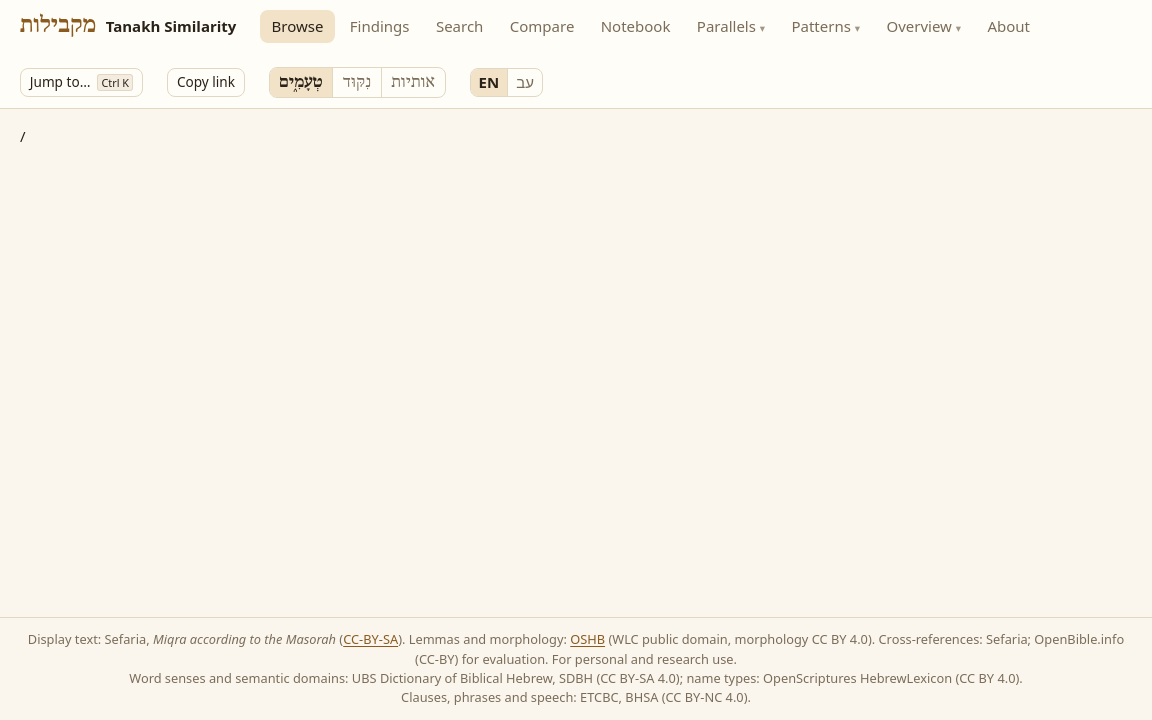
Test: JumpBox › puts a commoner word before a place of the same name
The width and height of the screenshot is (1152, 720).
Press k
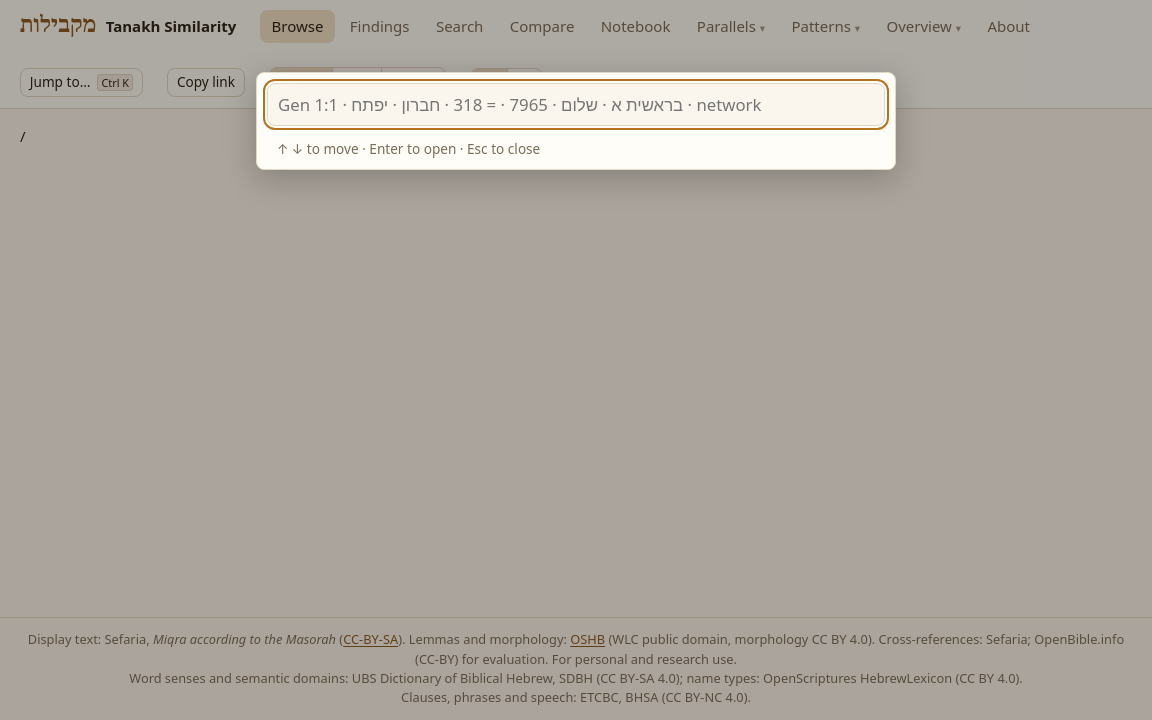
Replace the text in the dropdown named "Jump to a passage, a word, a place, a person or a page" with "עין" at (576, 104), box top-left (267, 83), bottom-right (885, 126)
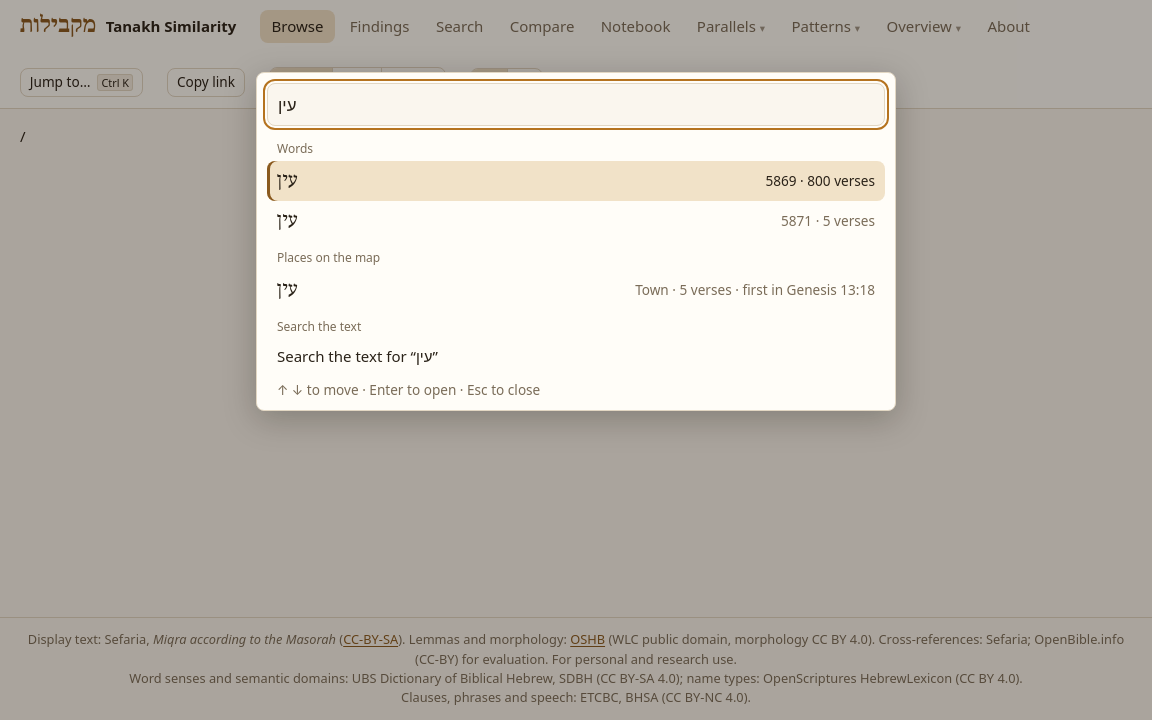
Check: the option "עין Town · 5 verses · first in Genesis 13:18" is shown, box top-left (277, 279), bottom-right (875, 300)
Check: the option "עין 5869 · 800 verses" is shown, box top-left (267, 161), bottom-right (885, 201)
Press Enter in the dropdown named "Jump to a passage, a word, a place, a person or a page", box top-left (267, 83), bottom-right (885, 126)
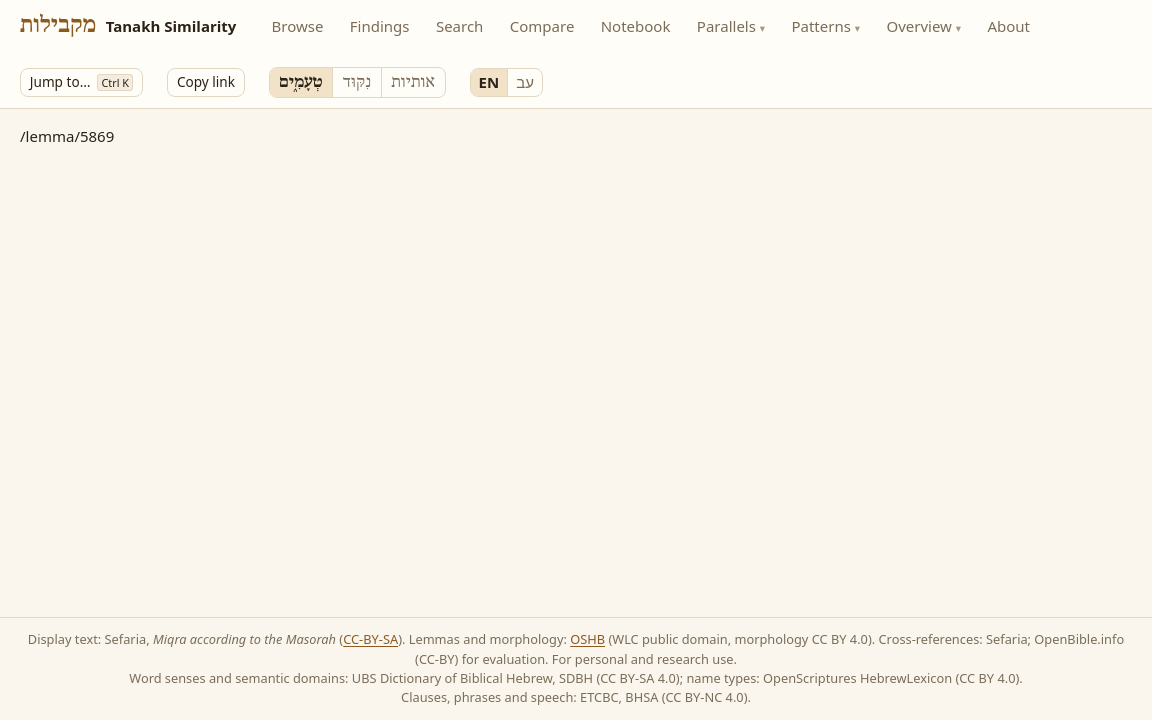
Check: the text with test id "loc" reads "/lemma/5869", box top-left (20, 126), bottom-right (114, 146)
